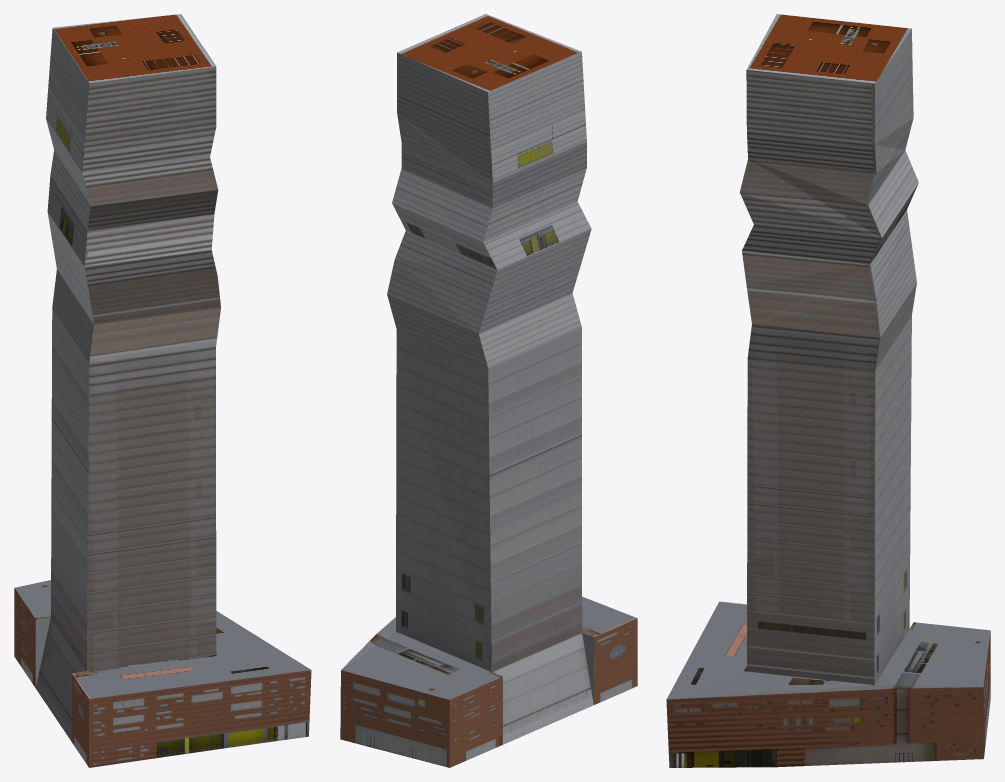
File: Kafd_Base_Location.glb
3 views of the same model, side by side, from view 1: azimuth 30°, elevation 25°; view 2: azimuth 150°, elevation 25°; view 3: azimuth 270°, elevation 25° (orthographic). The views are drawn at different scales.
Parts seen in each view (by area): view 1: 2.13copy; view 2: 2.13copy; view 3: 2.13copy.
Boxes of the visible parts, x1,y1,x2,y2 form: 2.13copy: (14, 14, 311, 767); 2.13copy: (340, 14, 637, 767); 2.13copy: (666, 14, 990, 767).
Size of the model in its own units: 50.1 by 160 by 69.97.
Materials: 1 (1 with a texture image).
